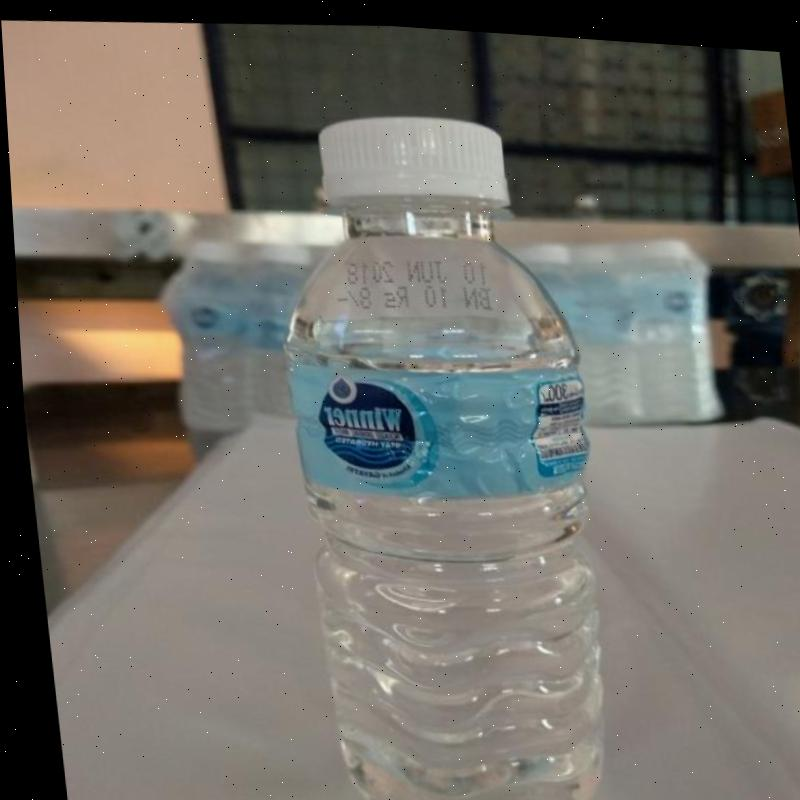botella: (256, 94, 625, 800)
